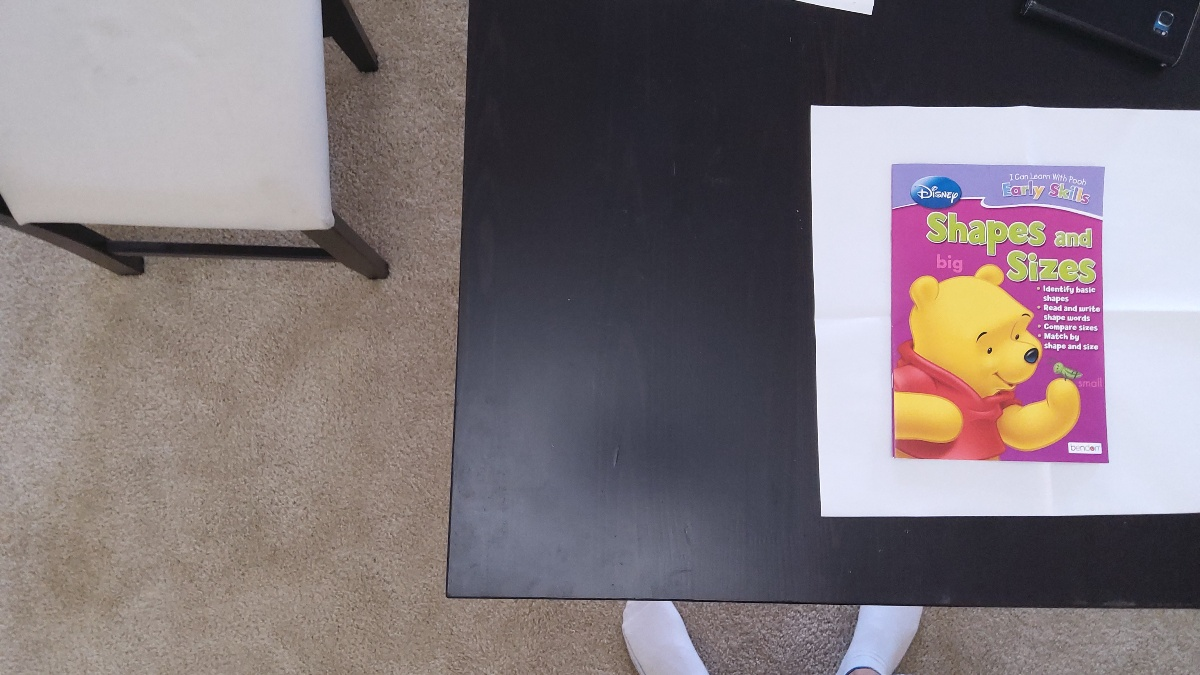book: (892, 167, 1107, 463)
